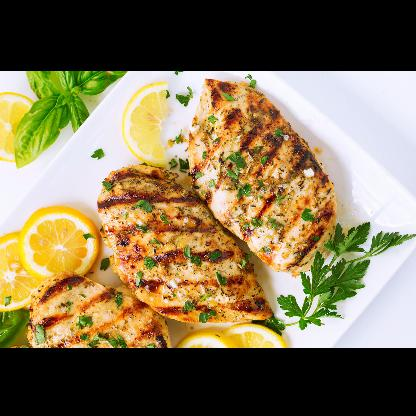grilled chicken breast: (96, 163, 282, 323), (190, 76, 338, 274), (28, 272, 170, 346)
